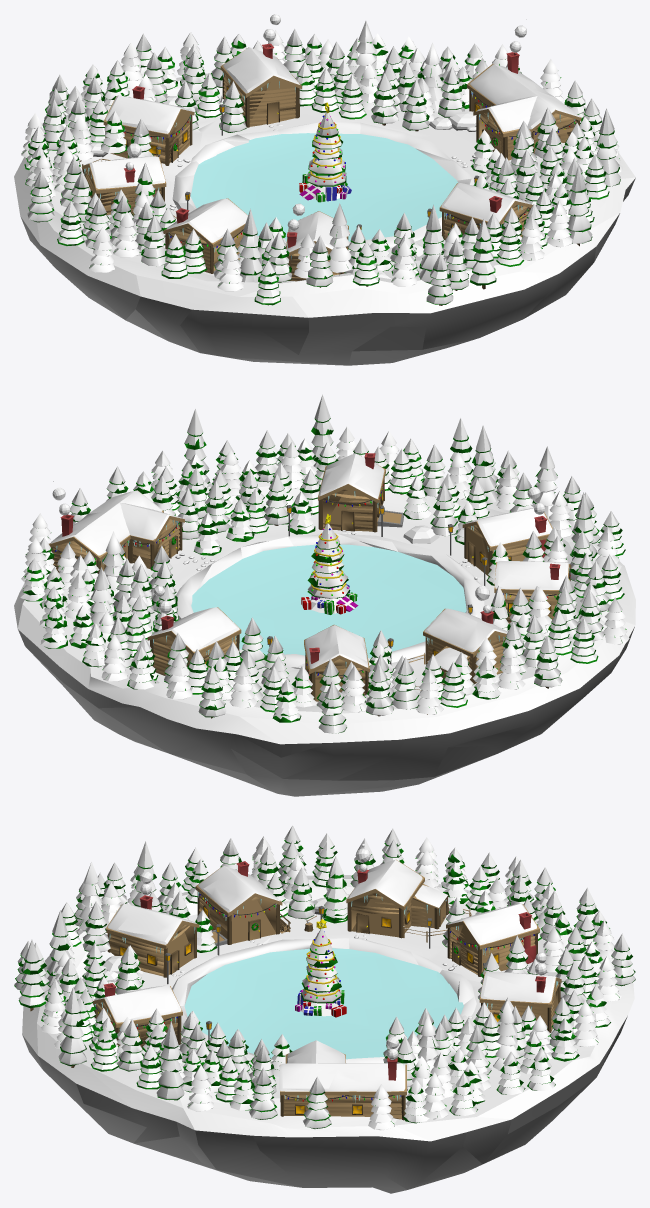
The model's file is festival-village.glb.
3 views of the same model, one above another, from view 1: azimuth 30°, elevation 25°; view 2: azimuth 150°, elevation 25°; view 3: azimuth 270°, elevation 25° (orthographic).
Visible parts, largest first — view 1: Festival_village; view 2: Festival_village; view 3: Festival_village.
Boxes of the visible parts, x1,y1,x2,y2 form: Festival_village: (14, 14, 635, 365); Festival_village: (14, 395, 635, 796); Festival_village: (14, 825, 635, 1193).
Size of the model in its own units: 43.87 by 18.04 by 44.01.
